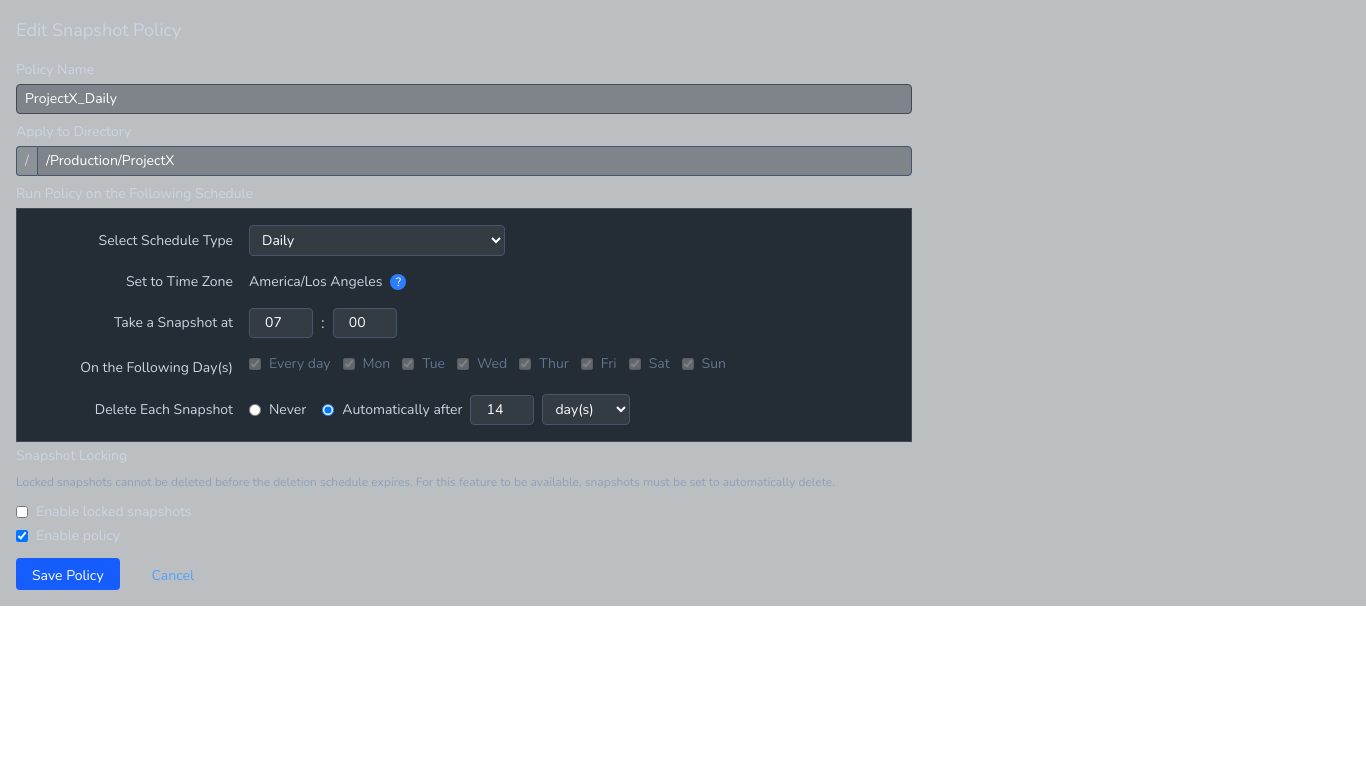
Scenario: SnapshotPolicyForm › Cancel Confirmation Dialog › closes dialog when "Keep Editing" is clicked
Note: Open dialog
Click the button "Cancel": (173, 574) [136,558,210,590]
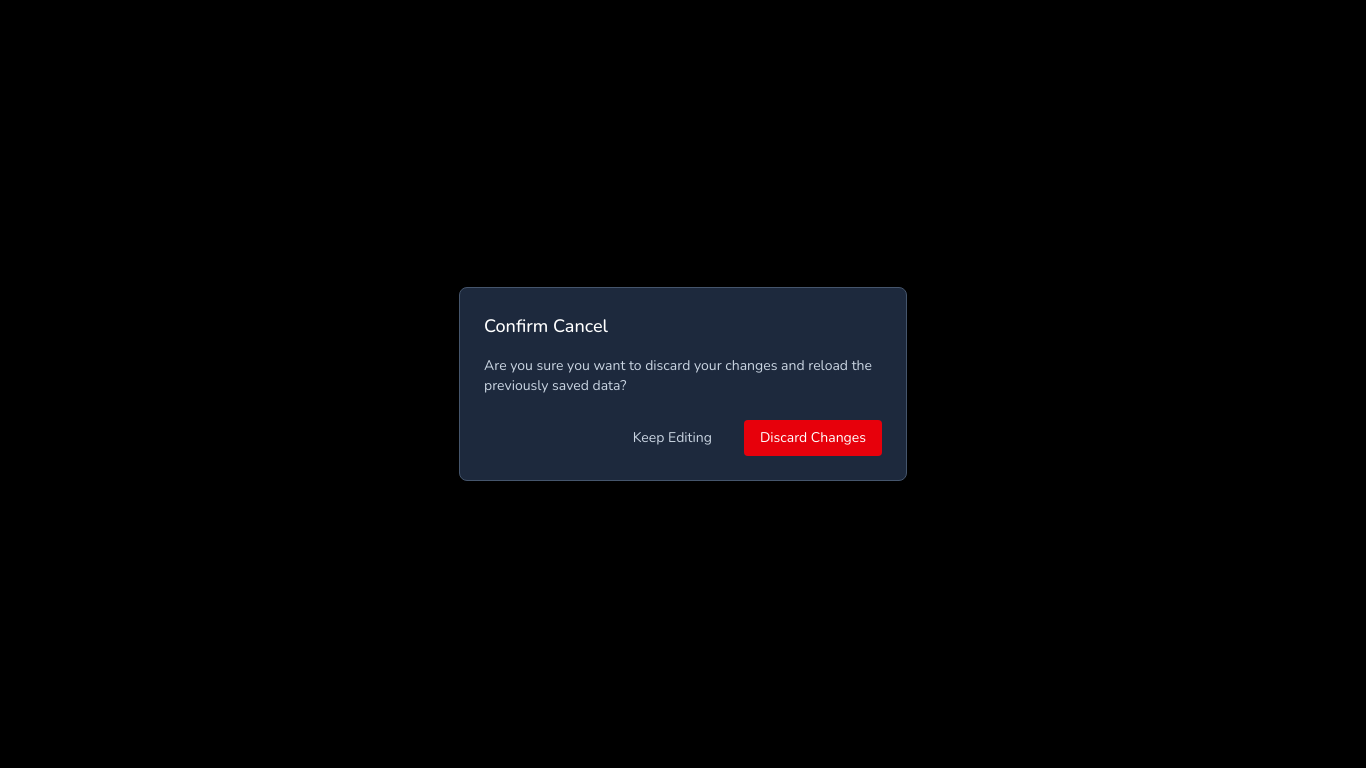
Expected: the heading "Confirm Cancel" is shown, [484,314,608,338]
Note: Click "Keep Editing"
Click the button "Keep Editing": (672, 438) [617,420,728,456]
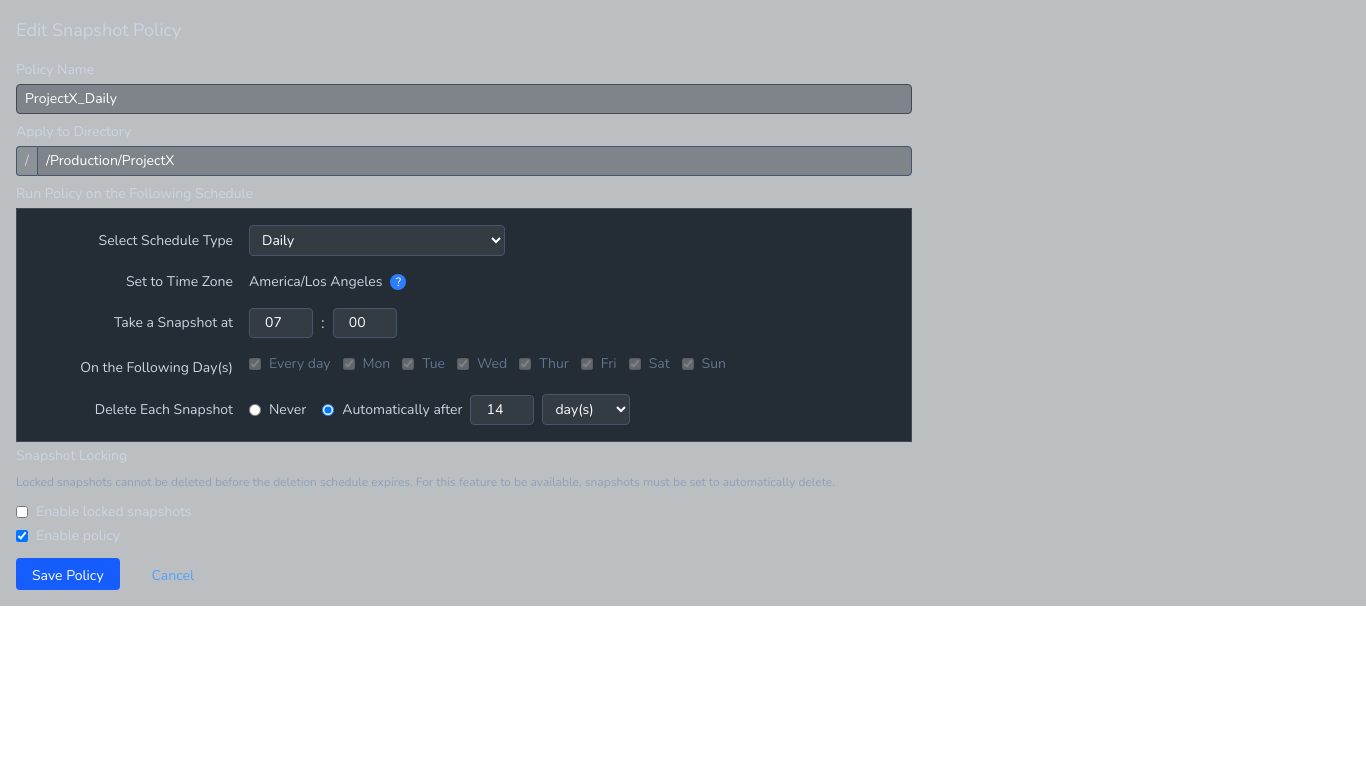
Expected: the heading "Confirm Cancel" is gone
